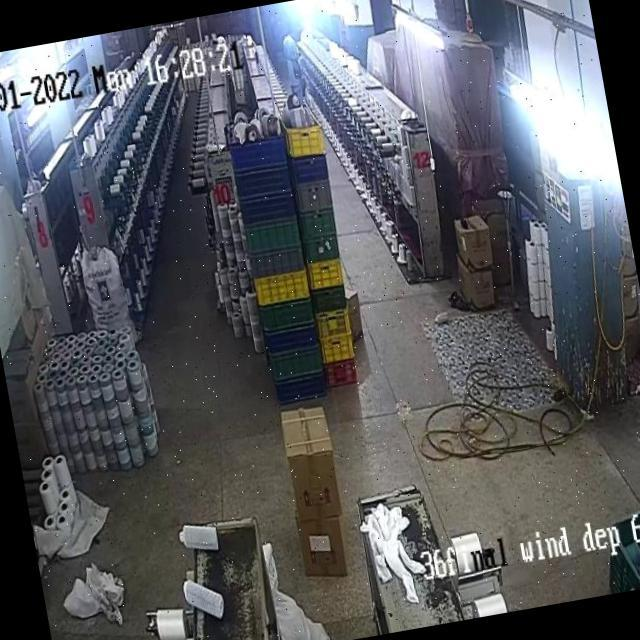person: (280, 29, 304, 92)
